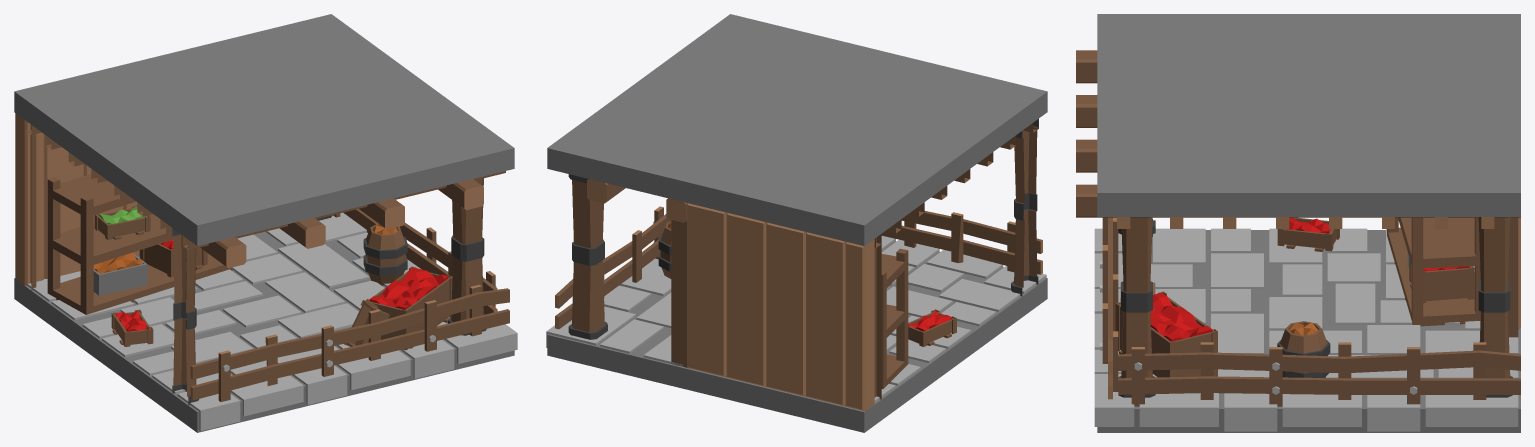
File: FoodStorage_Lvl_02_Corner_Right.fbx
The picture shows the model from 3 angles, left to right: view 1: azimuth 30°, elevation 25°; view 2: azimuth 150°, elevation 25°; view 3: azimuth 270°, elevation 25°; orthographic projection. The views are drawn at different scales.
Parts seen in each view (by area): view 1: FoodStorage_Lvl_02_Corner_Right; view 2: FoodStorage_Lvl_02_Corner_Right; view 3: FoodStorage_Lvl_02_Corner_Right.
Boxes of the visible parts, <box> form: FoodStorage_Lvl_02_Corner_Right: <box>14,14,517,432</box>; FoodStorage_Lvl_02_Corner_Right: <box>546,14,1047,432</box>; FoodStorage_Lvl_02_Corner_Right: <box>1076,14,1520,432</box>.
Size of the model in its own units: 8.05 by 5 by 8.4.
